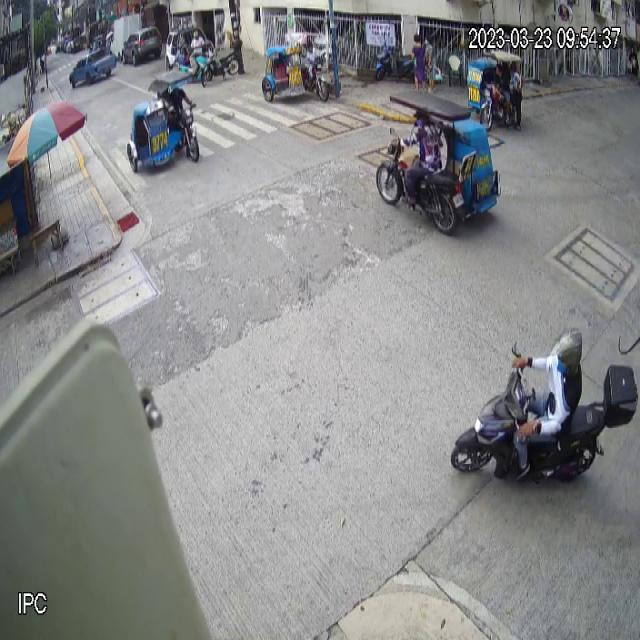Motorcycle: (450, 340, 639, 483)
Tricycle: (375, 89, 503, 236), (126, 71, 200, 174), (262, 31, 330, 104), (467, 51, 520, 132)
